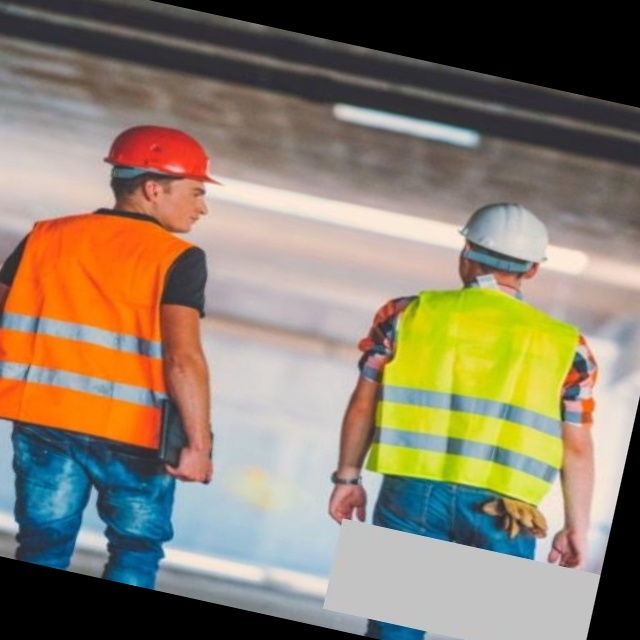Con_Chaleco: (354, 265, 597, 509), (0, 196, 215, 460)
